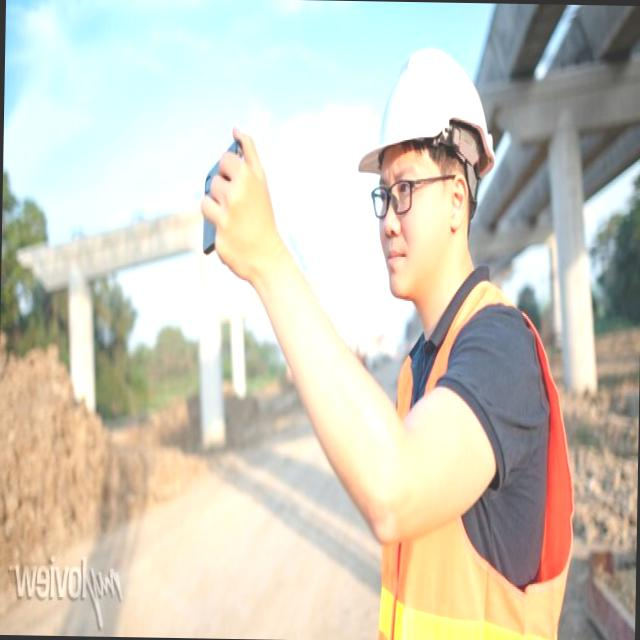goggles: (362, 163, 459, 226)
helmet: (349, 39, 501, 176)
vest: (380, 273, 566, 636)
